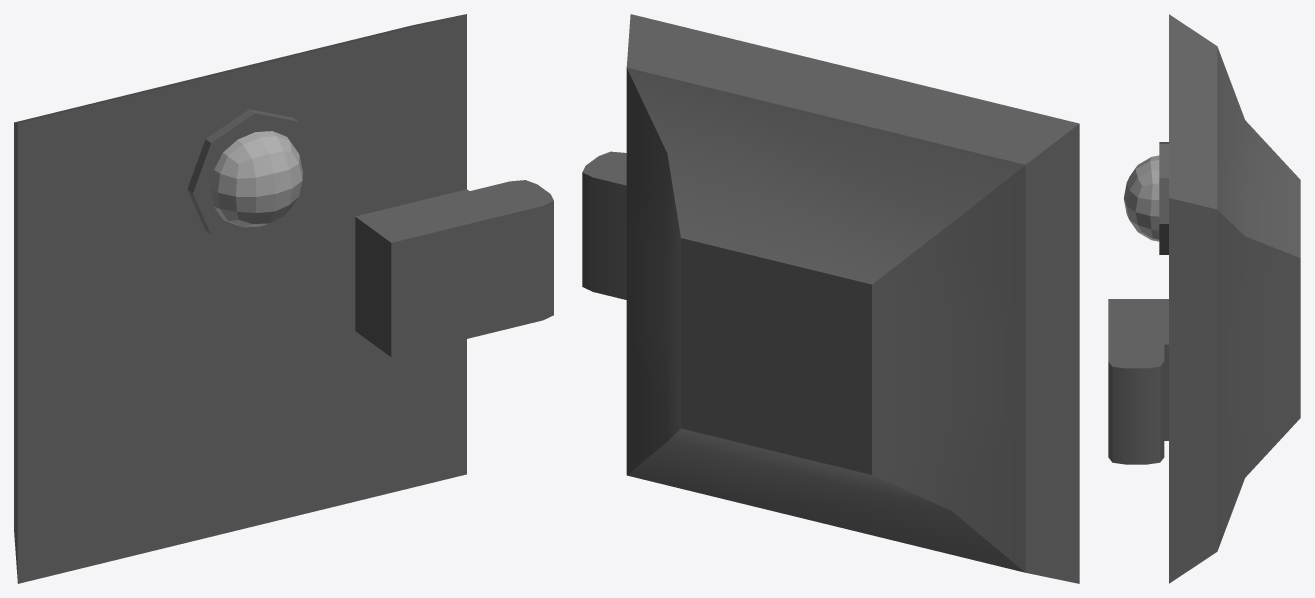
File: PuertaCajaFuerte.fbx
3 views of the same model, side by side, from view 1: azimuth 30°, elevation 25°; view 2: azimuth 150°, elevation 25°; view 3: azimuth 270°, elevation 25° (orthographic). The views are drawn at different scales.
Visible parts, largest first — view 1: PuertaCajaFuerte; view 2: PuertaCajaFuerte; view 3: PuertaCajaFuerte.
Boxes of the visible parts, left/top/right/bottom form: PuertaCajaFuerte: left=14, top=14, right=553, bottom=583; PuertaCajaFuerte: left=582, top=14, right=1079, bottom=583; PuertaCajaFuerte: left=1108, top=14, right=1300, bottom=583.
Size of the model in its own units: 51.81 by 44.97 by 20.3.
